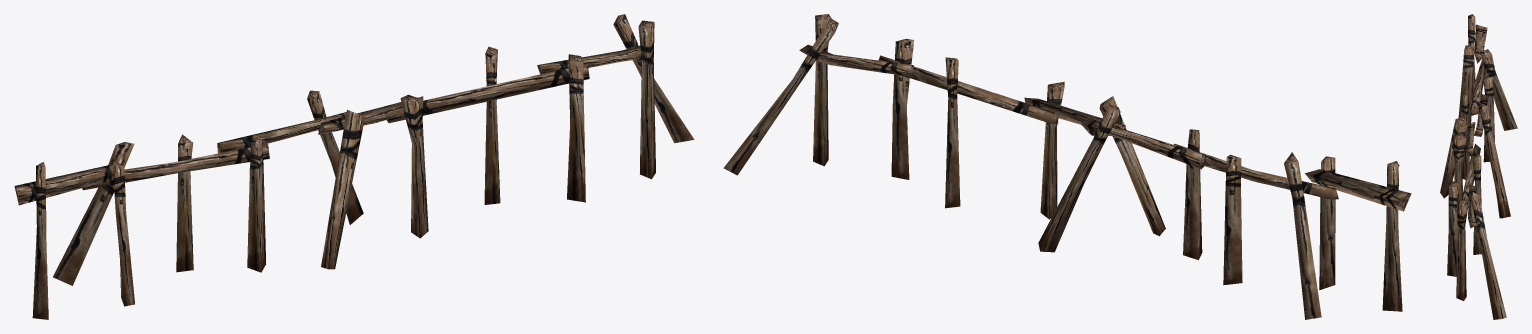
File: PRP_WoodFenceE.FBX
The picture shows the model from 3 angles, left to right: view 1: azimuth 30°, elevation 25°; view 2: azimuth 150°, elevation 25°; view 3: azimuth 270°, elevation 25°; orthographic projection. The views are drawn at different scales.
Parts seen in each view (by area): view 1: PRP_WoodFenceE; view 2: PRP_WoodFenceE; view 3: PRP_WoodFenceE.
Part boxes in pixels (x1,y1,x2,y2): PRP_WoodFenceE: (14, 14, 694, 319); PRP_WoodFenceE: (723, 14, 1411, 319); PRP_WoodFenceE: (1440, 14, 1517, 319).
Bounding box in the file's own units: 750 × 171 × 115.
